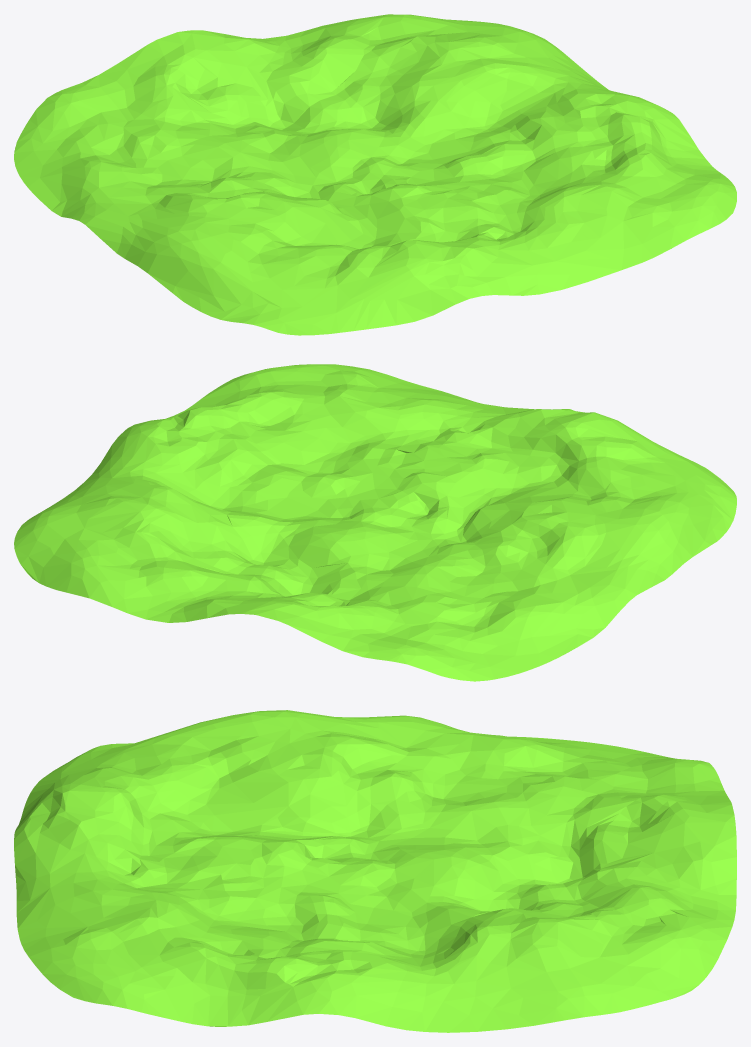
The model's file is terrain6.fbx.
3 renders of one model, top to bottom at view 1: azimuth 30°, elevation 25°; view 2: azimuth 150°, elevation 25°; view 3: azimuth 270°, elevation 25°, orthographic. The views are drawn at different scales.
Parts seen in each view (by area): view 1: terrain6; view 2: terrain6; view 3: terrain6.
Boxes of the visible parts, x1,y1,x2,y2 form: terrain6: (14, 14, 736, 335); terrain6: (14, 364, 736, 681); terrain6: (14, 710, 736, 1032).
Bounding box in the file's own units: 64.93 × 5.52 × 65.2.
